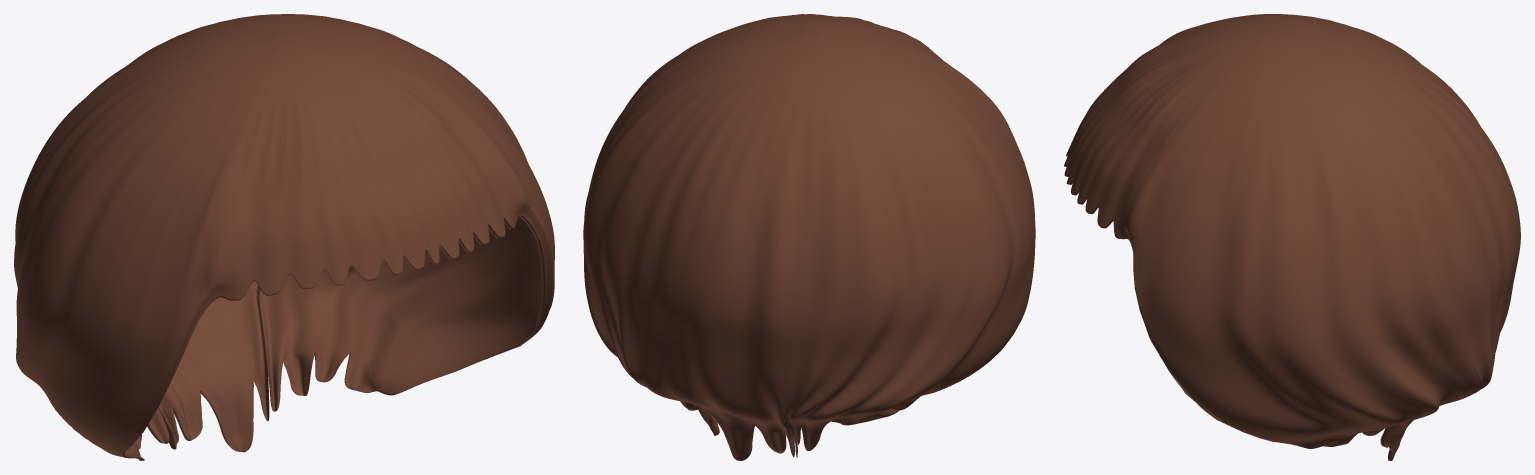
File: long-pashmina.glb
3 views of the same model, side by side, from view 1: azimuth 30°, elevation 25°; view 2: azimuth 150°, elevation 25°; view 3: azimuth 270°, elevation 25° (orthographic). The views are drawn at different scales.
Visible parts, largest first — view 1: Hair / rounded long fringe; view 2: Hair / rounded long fringe; view 3: Hair / rounded long fringe.
Boxes of the visible parts, <box> form: Hair / rounded long fringe: <box>14,14,554,460</box>; Hair / rounded long fringe: <box>583,14,1035,460</box>; Hair / rounded long fringe: <box>1064,14,1520,460</box>.
Bounding box in the file's own units: 0.8406 × 0.778 × 0.7781.
